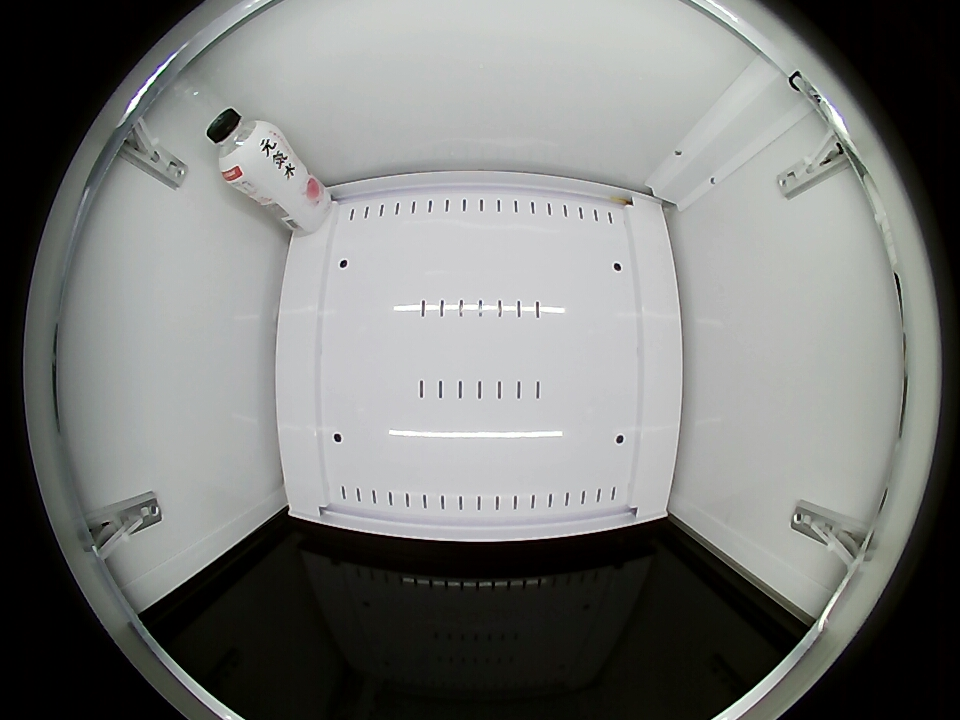yuanqishui: (206, 108, 282, 187)
